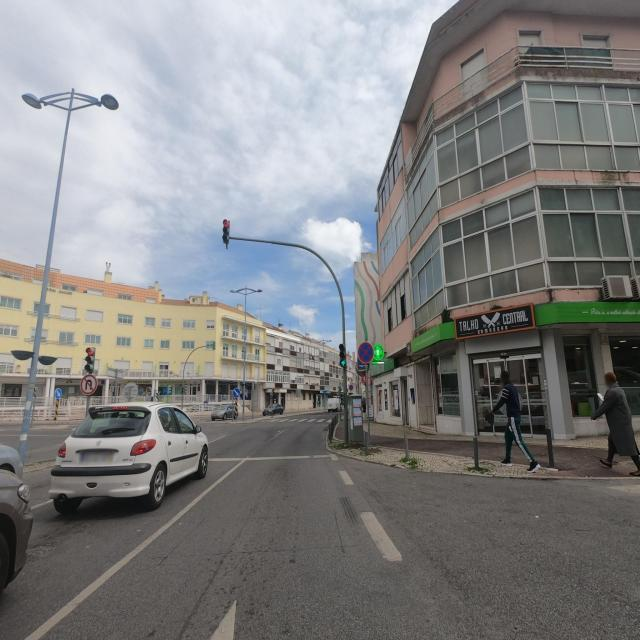car: (49, 401, 209, 516), (0, 442, 34, 622), (210, 403, 238, 421), (262, 402, 284, 416), (327, 396, 341, 412)
